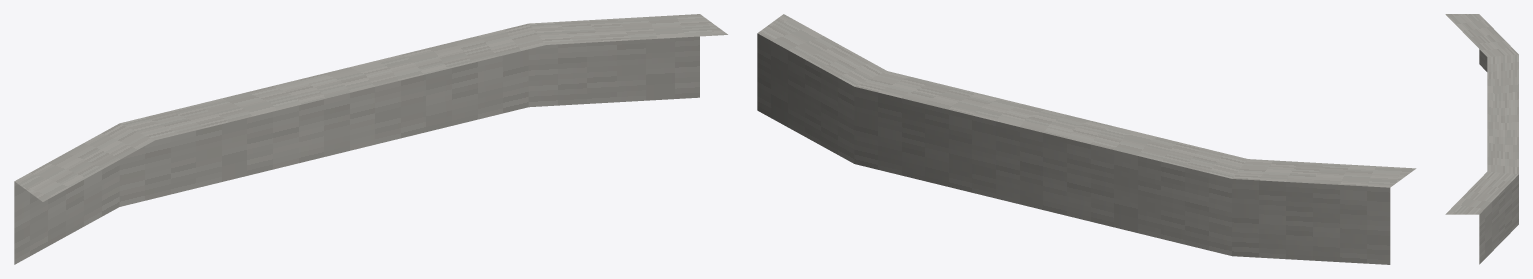
Rendered from tank_small_footing_1_0.obj.
3 views of the same model, side by side, from view 1: azimuth 30°, elevation 25°; view 2: azimuth 150°, elevation 25°; view 3: azimuth 270°, elevation 25° (orthographic). The views are drawn at different scales.
Parts seen in each view (by area): view 1: tank_small_footing_1_0; view 2: tank_small_footing_1_0; view 3: tank_small_footing_1_0.
Boxes of the visible parts, <box> form: tank_small_footing_1_0: <box>14,14,727,264</box>; tank_small_footing_1_0: <box>757,14,1416,264</box>; tank_small_footing_1_0: <box>1445,14,1518,264</box>.
Bounding box in the file's own units: 3 × 0.35 × 0.467.
